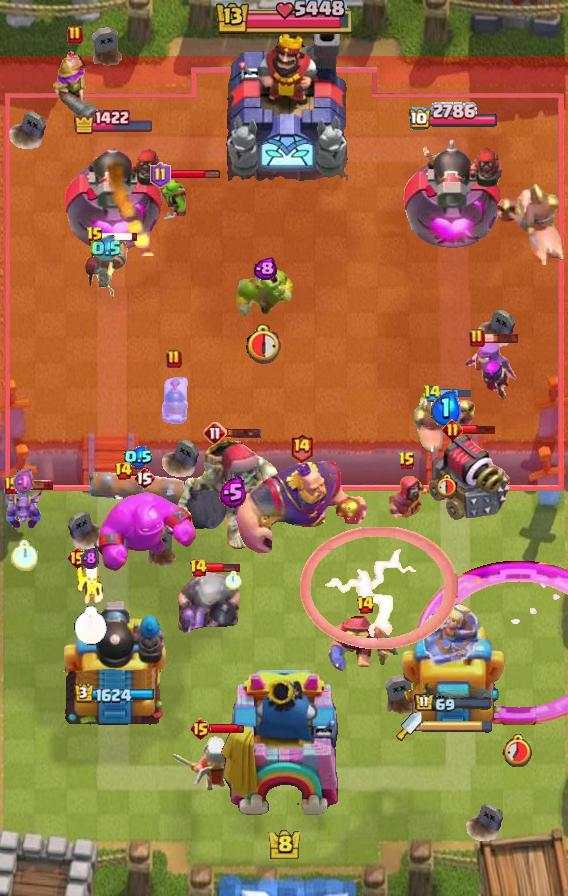bar: (398, 595, 508, 731)
barbarian-evolution: (300, 527, 458, 649)
bomb-tower: (47, 49, 103, 127)
bowler: (385, 474, 429, 524)
clock: (213, 0, 355, 38)
clone: (90, 491, 198, 573)
electro-giant: (175, 438, 291, 552)
electro-spirit: (430, 390, 461, 426), (219, 476, 247, 508), (91, 235, 122, 262), (13, 468, 36, 496), (124, 446, 153, 468), (253, 257, 277, 281), (81, 546, 99, 570)
elixir: (247, 322, 286, 364), (74, 607, 107, 646), (502, 733, 534, 767), (11, 541, 38, 572), (434, 474, 457, 499), (225, 570, 243, 589)
emote: (167, 168, 220, 179), (484, 332, 521, 344), (225, 427, 262, 439), (18, 479, 54, 491), (209, 723, 245, 735), (102, 231, 139, 242), (461, 425, 497, 436), (205, 563, 241, 574), (440, 388, 472, 399), (130, 467, 150, 478)
executioner: (158, 372, 190, 430)
fireball: (327, 612, 403, 674)
flying-machine: (236, 269, 294, 323)
freeze: (494, 184, 568, 270), (414, 389, 476, 453)
golem: (427, 432, 513, 522)
heal-spirit: (75, 561, 105, 605)
king-tower: (219, 21, 349, 181), (219, 670, 349, 826)
king-tower-bar: (422, 719, 494, 733)
knight: (82, 235, 130, 301)
knight-evolution: (416, 561, 568, 725)
lightning: (234, 460, 369, 560)
minion: (87, 470, 189, 506)
poison: (170, 731, 258, 805)
rascal-girl: (463, 338, 519, 404)
royal-delivery: (3, 488, 45, 532)
royal-guardian: (174, 569, 244, 633)
selected: (409, 102, 500, 132), (73, 109, 155, 135), (73, 684, 154, 705), (414, 693, 494, 714)
text: (289, 433, 314, 463), (203, 421, 227, 445), (67, 546, 90, 570), (189, 717, 212, 741), (149, 162, 170, 188), (133, 466, 155, 490), (442, 420, 463, 441), (114, 461, 134, 481), (189, 558, 208, 578), (356, 595, 375, 615), (86, 226, 104, 246), (398, 451, 416, 471), (422, 385, 441, 403), (67, 25, 83, 45), (469, 328, 485, 348), (166, 349, 182, 369), (4, 476, 20, 494)
tower-bar: (58, 595, 170, 731), (401, 132, 508, 256), (63, 138, 164, 256)
zap: (156, 179, 190, 223)
